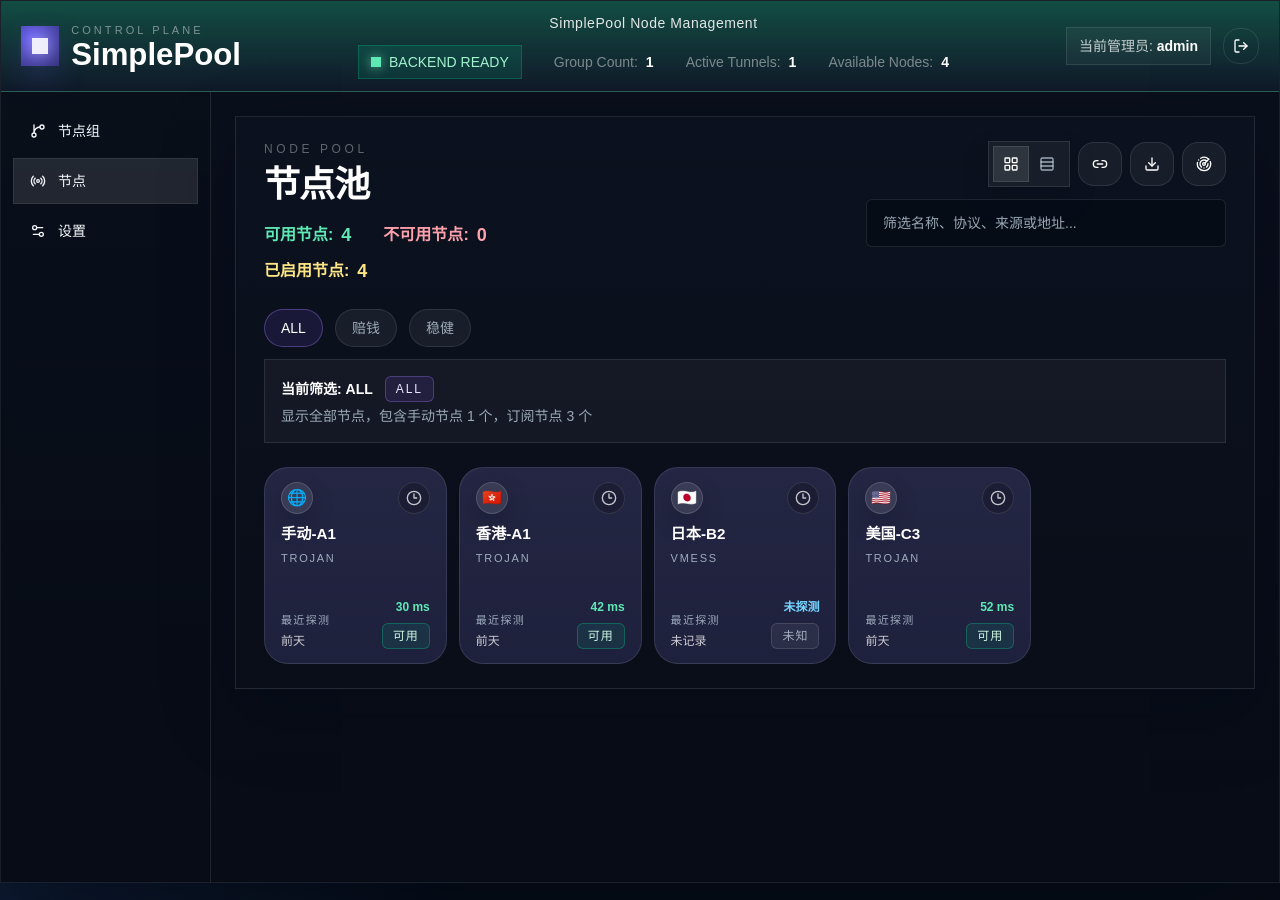
Test: App › 节点页支持按订阅 Tag 筛选并显示时间 tooltip
The image size is (1280, 900).
Expected: the heading "节点池" is shown, [264,164,369,205]
Expected: the text "手动-A1" is shown, [281,522,336,546]
Click the button with aria-label "筛选 赔钱" at point(366, 328), box [335,309,397,347]
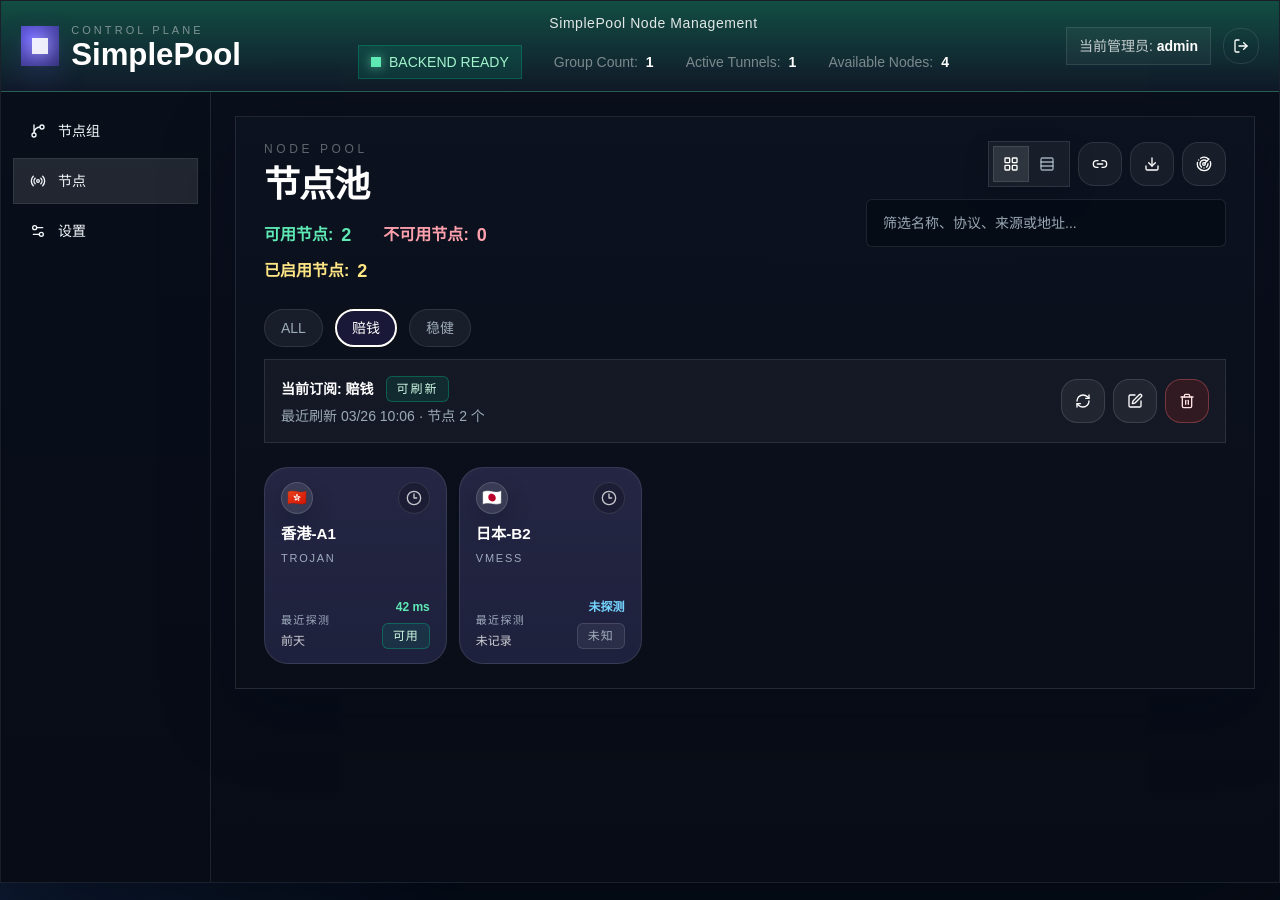
Expected: the text "香港-A1" is shown, [281,522,336,546]
Now the button "手动-A1" is gone
Now the button "美国-C3" is gone
